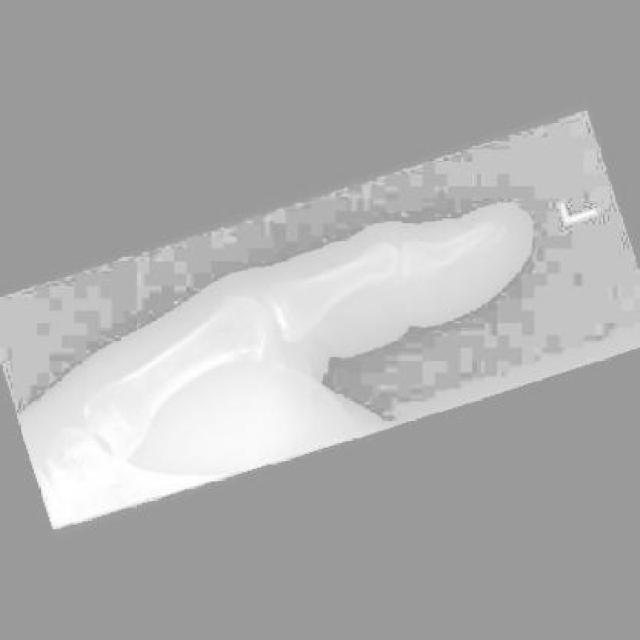Fracture: (460, 220, 509, 260), (396, 268, 422, 291)
